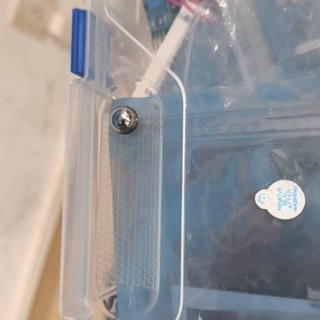ironball: (106, 105, 144, 138)
